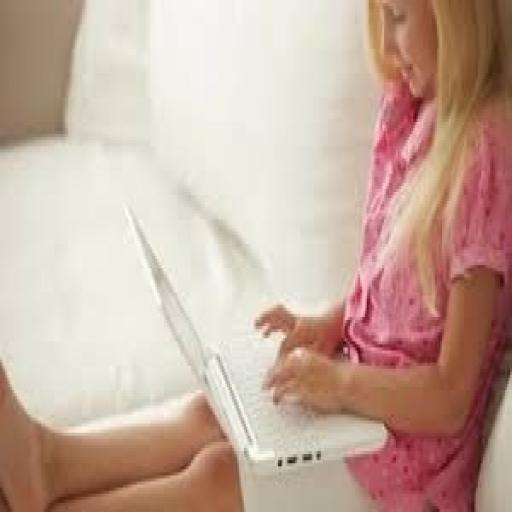using_laptop: (122, 198, 388, 472)
